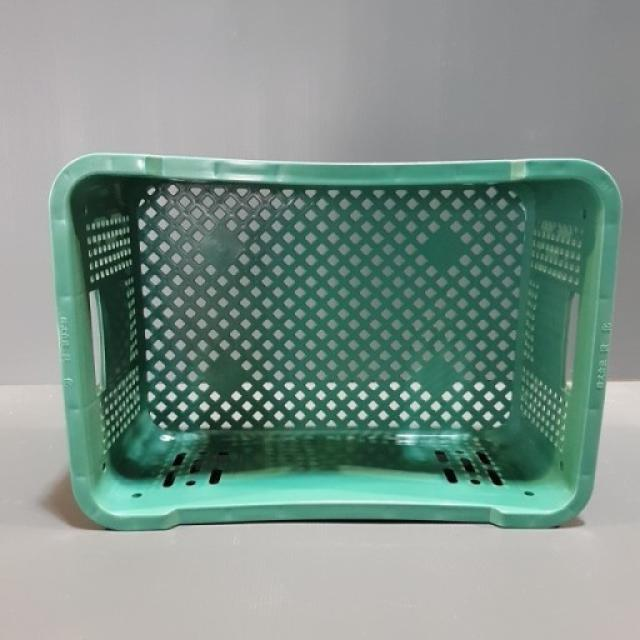basket: (47, 153, 623, 536)
